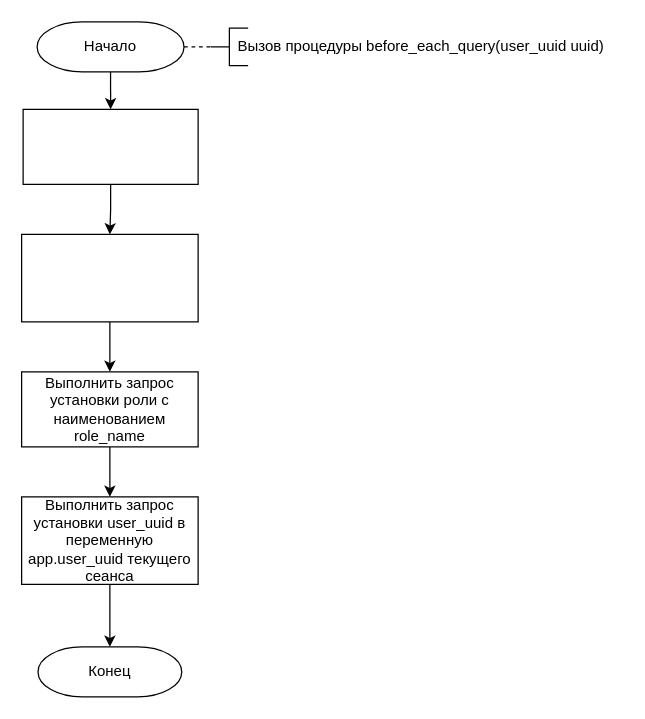
The diagram is 645 pixels wide and 719 high, and some of its shapes have lost their labels. The shapes that lost their labels are listed below. From the top down, each one's centre as x and y in pixels, then its label:
[110,146]: Объявить переменную role_name типа regrole
[109,277]: Получить роль пользователя по user_uuid и установить ее в переменную role_name
